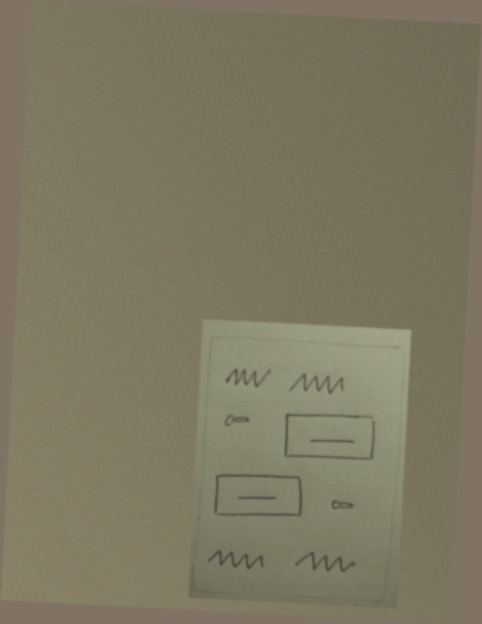button: (280, 408, 380, 467), (210, 470, 306, 523)
switch: (220, 409, 257, 432), (325, 494, 357, 515)
text: (290, 546, 361, 578), (286, 367, 348, 400), (205, 544, 268, 575), (222, 364, 274, 392)
